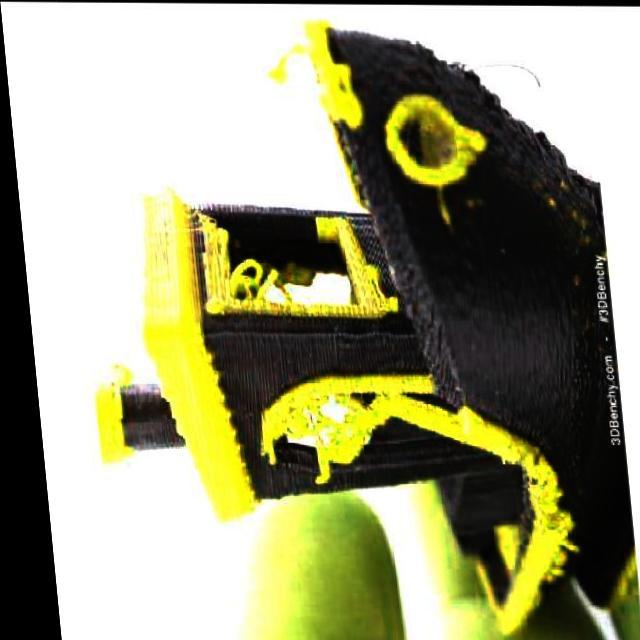spaghetti: (239, 385, 390, 489), (514, 475, 575, 586), (207, 253, 290, 310)
